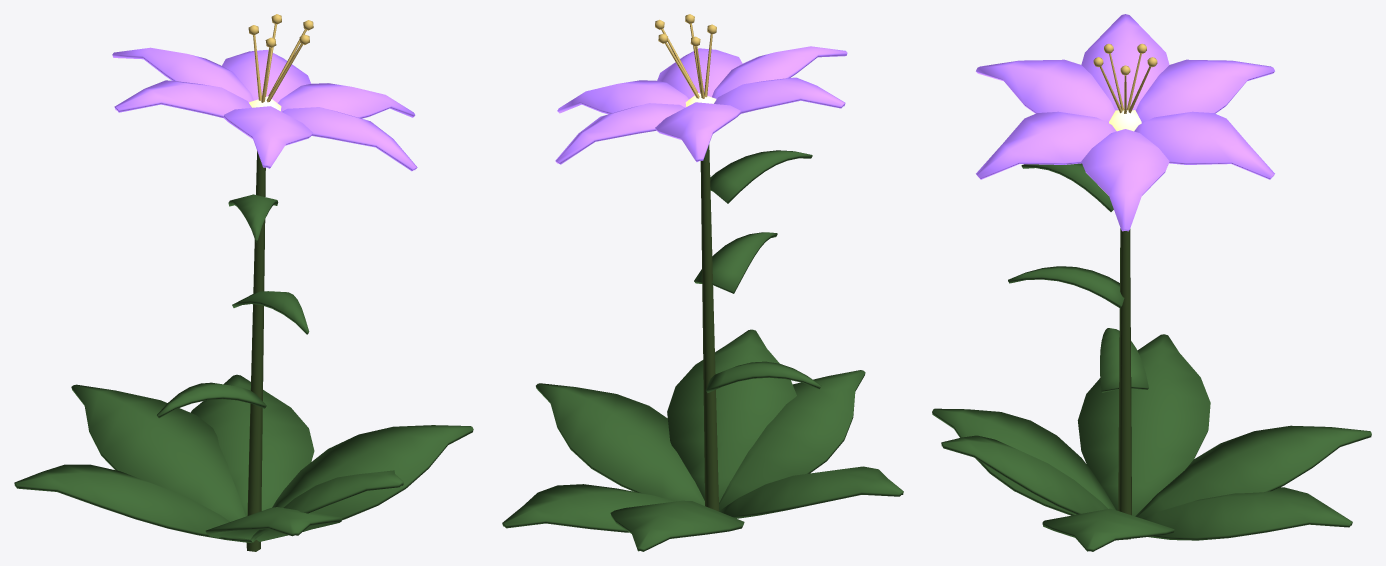
File: flora_lily.glb
3 renders of one model, left to right at view 1: azimuth 30°, elevation 25°; view 2: azimuth 150°, elevation 25°; view 3: azimuth 270°, elevation 25°, orthographic. The views are drawn at different scales.
Parts seen in each view (by area): view 1: leaf_deep, petal_lavender, stem, stamen; view 2: leaf_deep, petal_lavender, stem, stamen; view 3: leaf_deep, petal_lavender, stem, stamen, glow_core.
Part boxes in pixels (x1,y1,x2,y2): leaf_deep: (14,194,473,542); petal_lavender: (112,47,417,171); stem: (246,151,265,551); stamen: (248,14,313,102); leaf_deep: (502,150,903,551); petal_lavender: (555,46,847,164); stem: (700,144,719,511); stamen: (655,14,716,98); leaf_deep: (932,163,1371,551); petal_lavender: (976,14,1274,231); stem: (1118,228,1131,539); stamen: (1093,43,1157,113); glow_core: (1109,110,1141,131).
Size of the model in its own units: 0.9885 by 1.16 by 0.9308.
